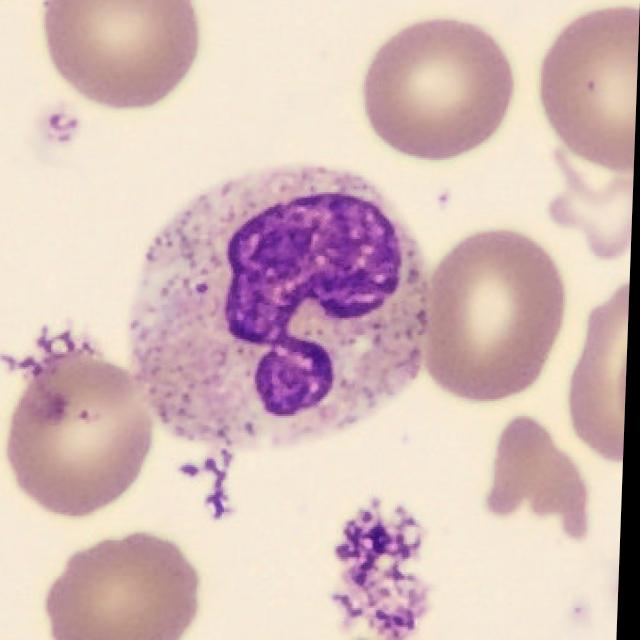Neutrofilo segmentado: (130, 164, 432, 452)
